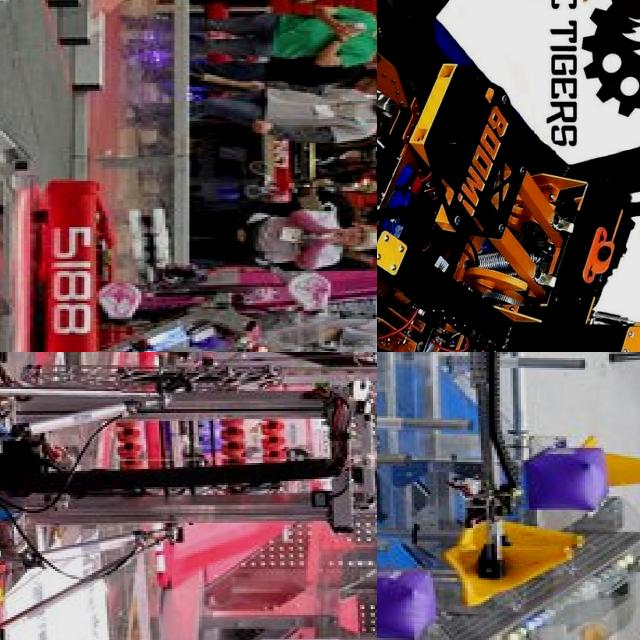FRC-Robots: (0, 352, 377, 640), (377, 0, 640, 352), (35, 154, 377, 352), (377, 352, 596, 605)
